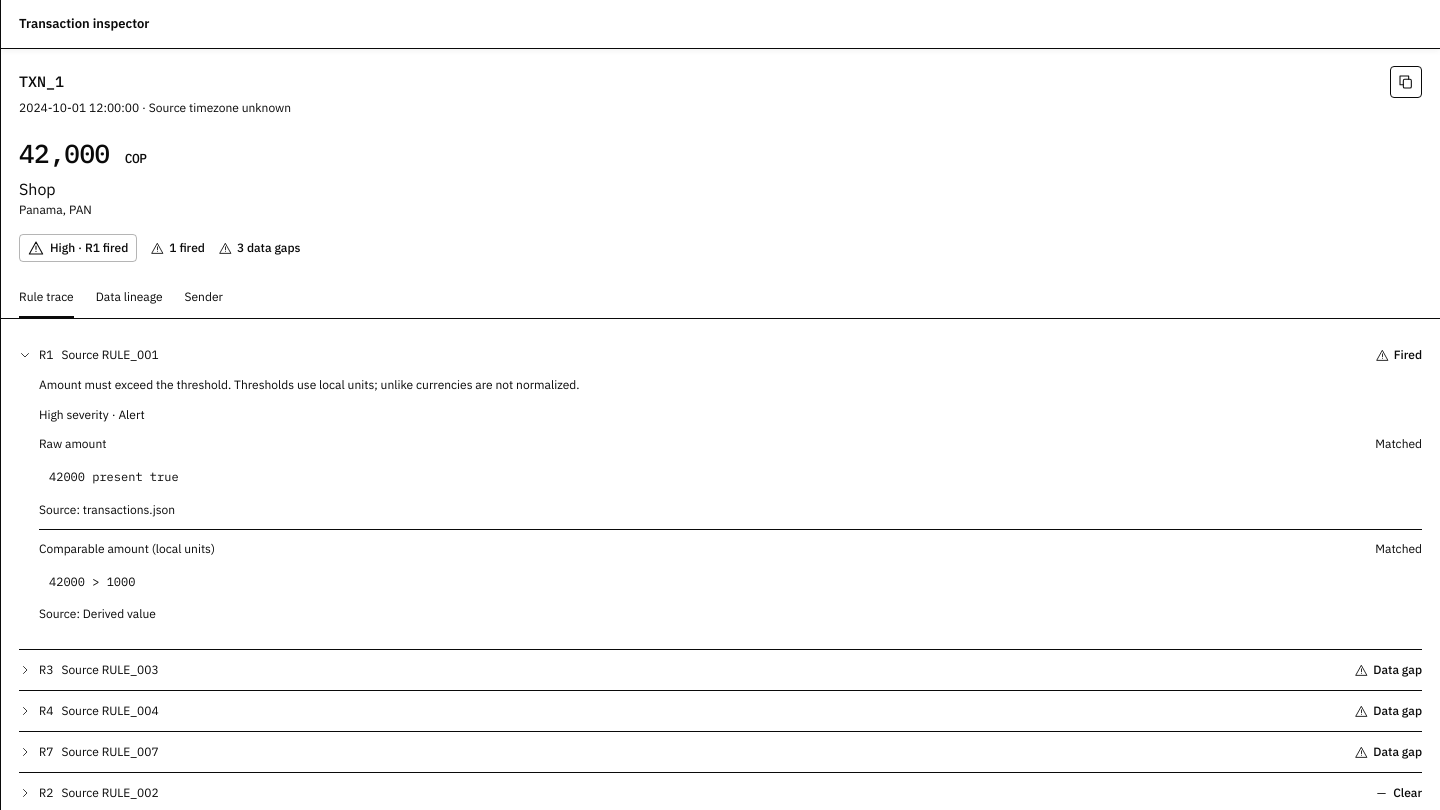
Test: forensic inspector › shows snapshot type/country counts and per-currency baselines and filters the actual ID
Later steps or results of the test are not shown.
Click the tab "Sender" at (204, 298), box [185,278,223,318]
(page scrolled)
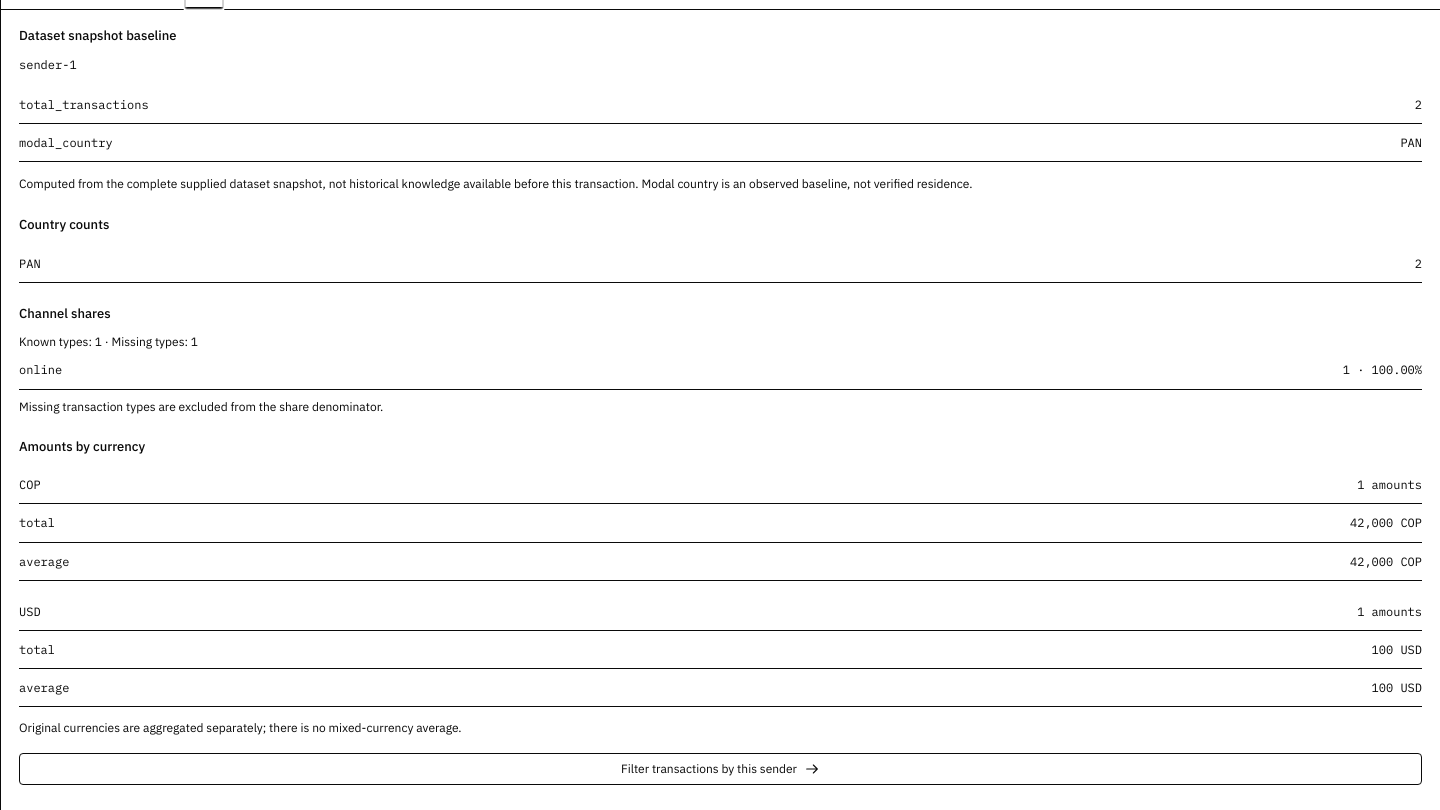
Now the panel "sender" shows "Dataset snapshot baseline", box [19,27,176,44]
Now the panel "sender" shows "not historical knowledge", box [19,176,972,191]
Now the panel "sender" shows "sender-1", box [19,56,77,72]
